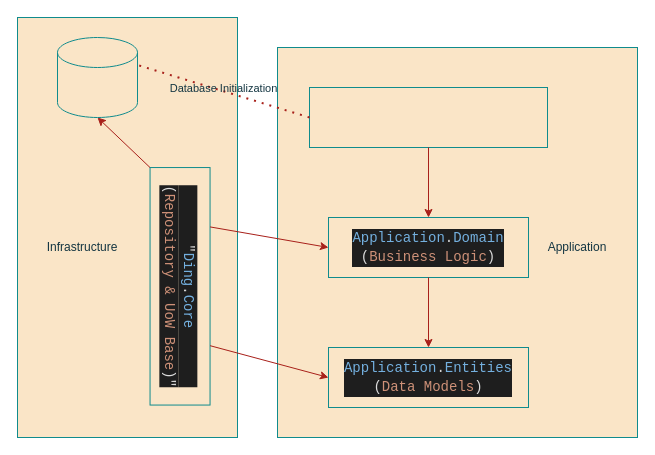
Image size: 655x455. Some labels were removed from this diagram. Each missing label, with the centre of its shape:
"Application . Console ( Presentation & DI Host )" belongs at pixel 428 117.
"Postgres" belongs at pixel 97 77.
